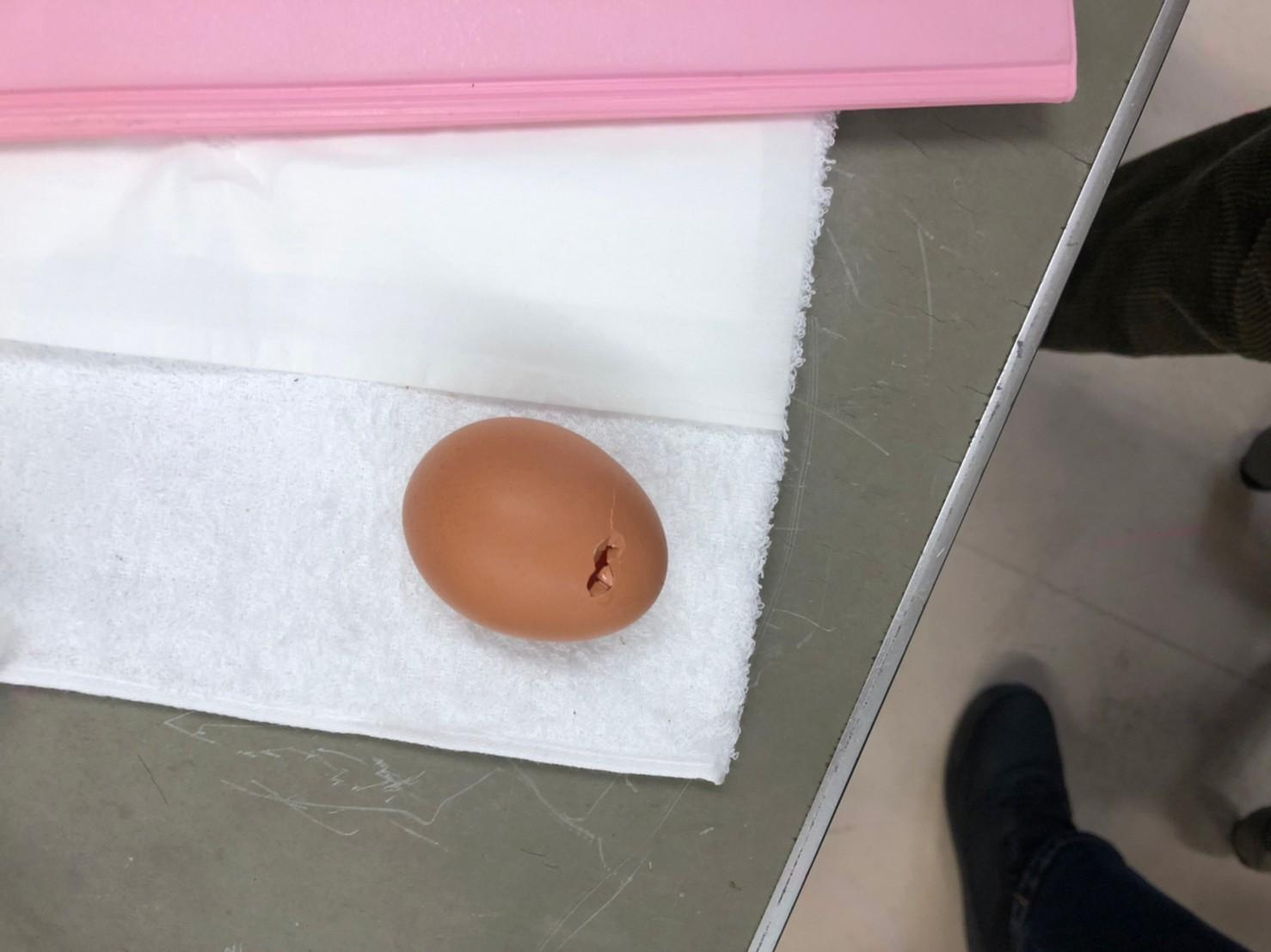egg: (395, 404, 676, 646)
